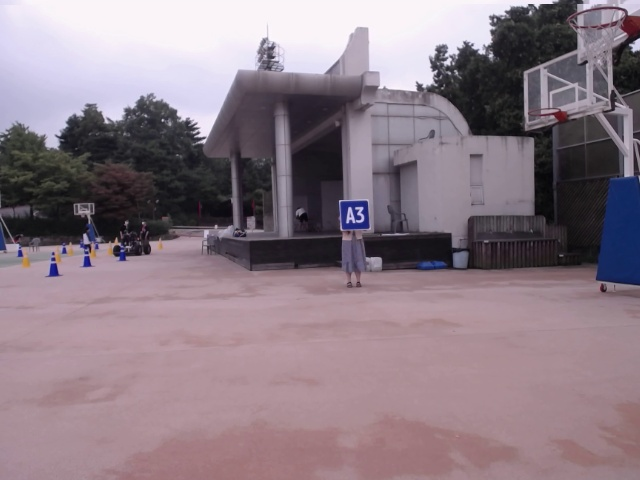delivery_a3: (340, 200, 371, 230)
